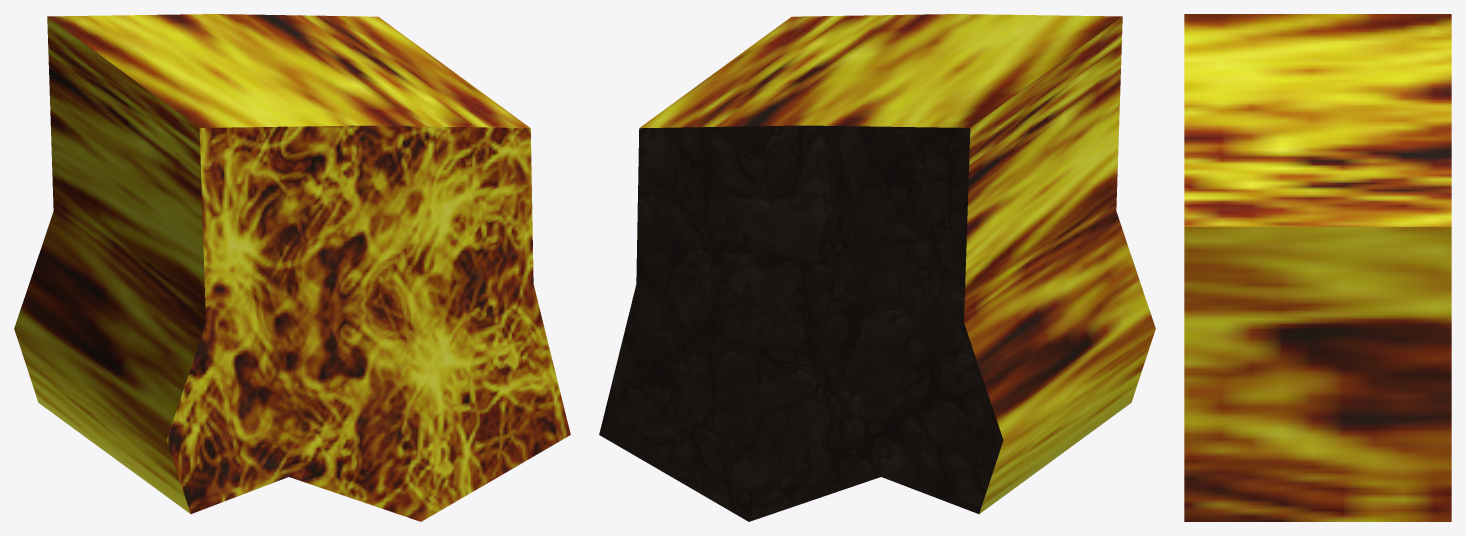
File: dilie2.FBX
The picture shows the model from 3 angles, left to right: view 1: azimuth 30°, elevation 25°; view 2: azimuth 150°, elevation 25°; view 3: azimuth 270°, elevation 25°; orthographic projection. The views are drawn at different scales.
Parts seen in each view (by area): view 1: dilie2; view 2: dilie2; view 3: dilie2.
Part boxes in pixels (x1,y1,x2,y2): dilie2: [14, 14, 570, 521]; dilie2: [599, 14, 1155, 521]; dilie2: [1184, 14, 1451, 521].
Bounding box in the file's own units: 76.61 × 81.11 × 50.
1 material, 1 textured.
